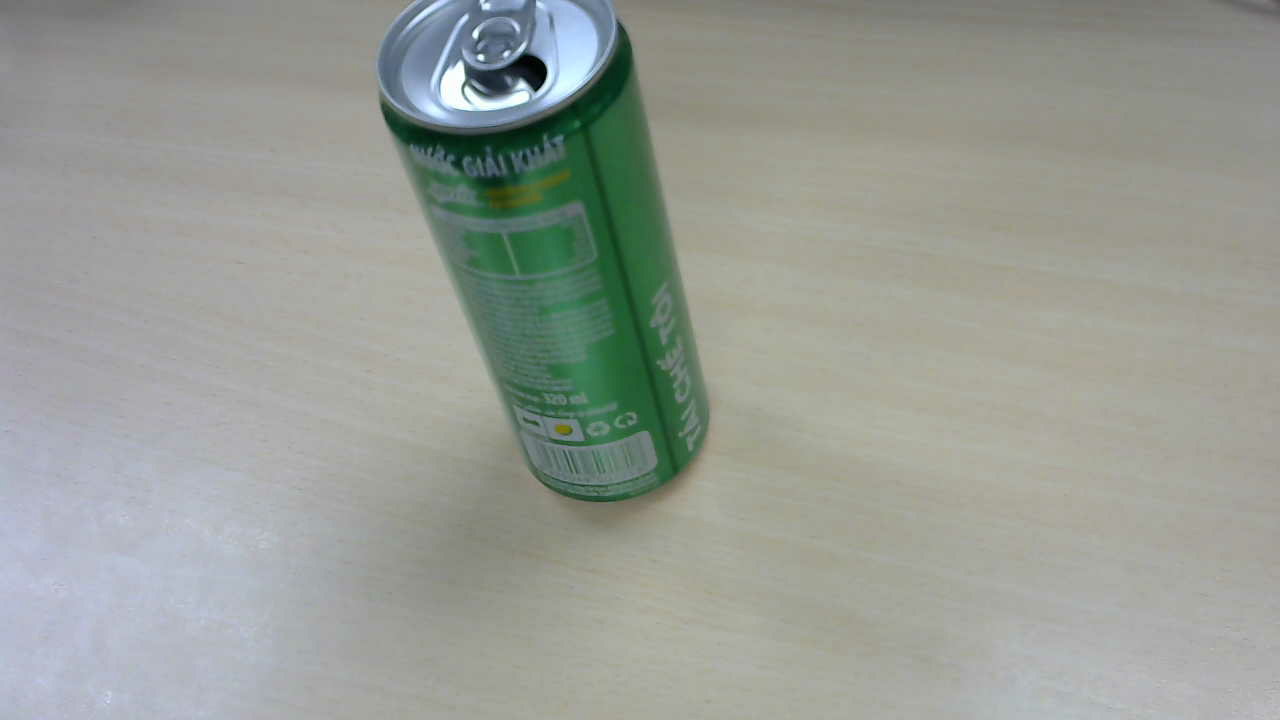Sprite: (378, 6, 717, 510)
